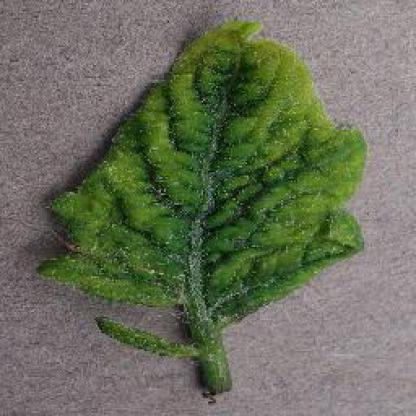bad leaf: (127, 166, 267, 360), (171, 32, 298, 168), (220, 164, 331, 303), (59, 168, 150, 300)
